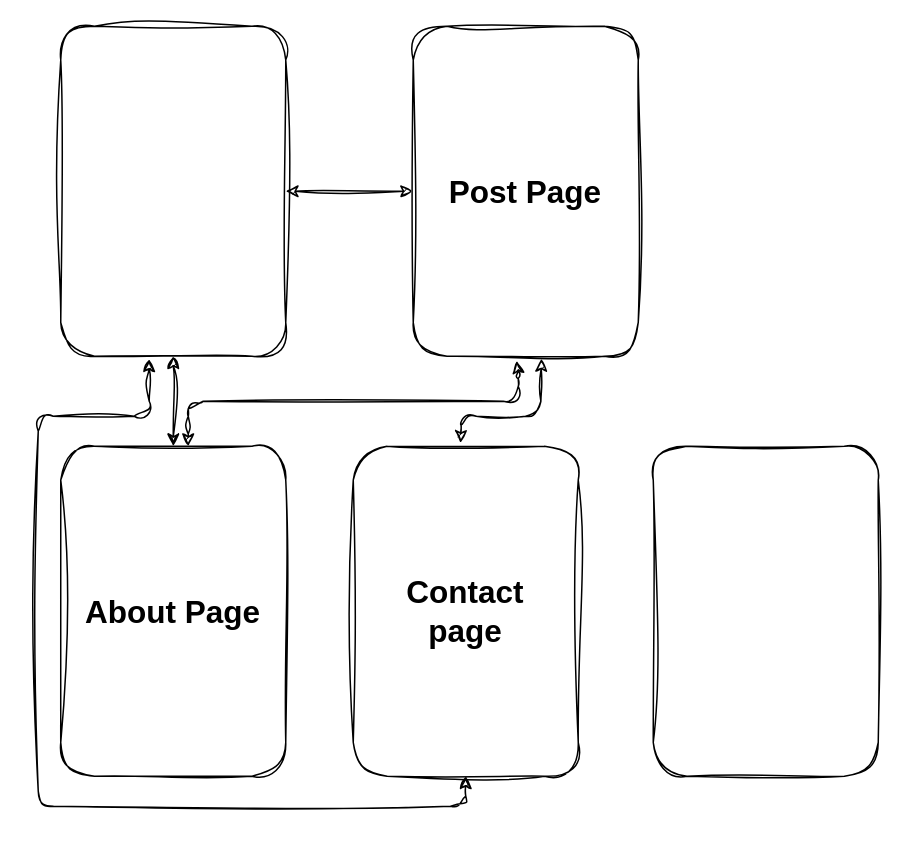
Image size: 905x846. Some labels were removed from this diagram. The centre of each missing label's shape, as x and y in pixels:
404 Page: point 765,610
Home Page: point 172,190
